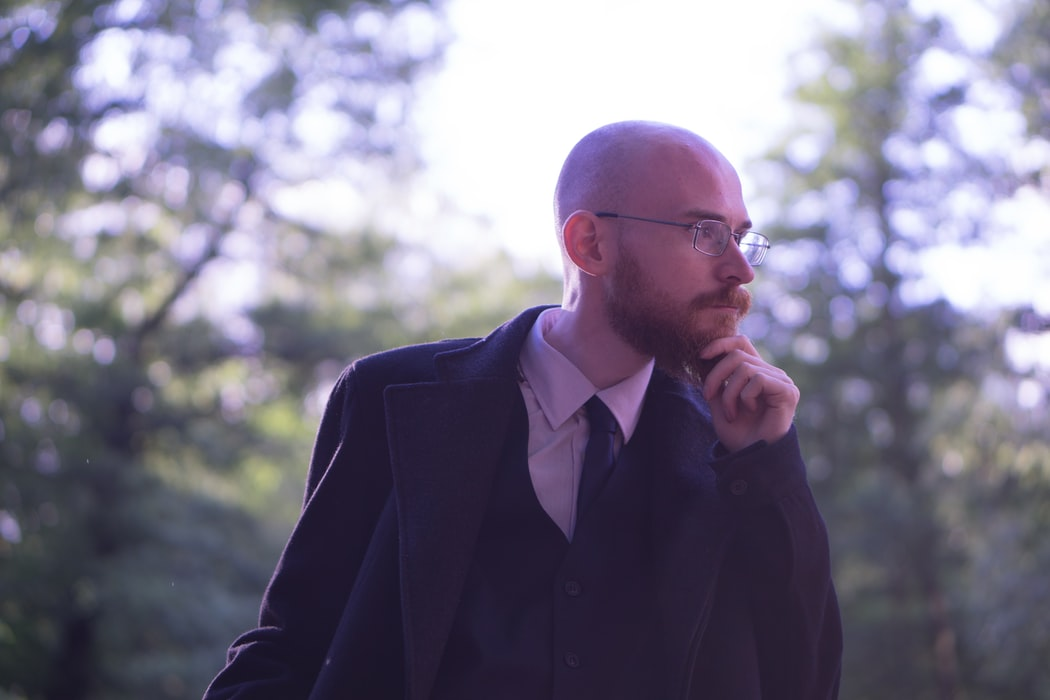beard: (601, 287, 762, 377)
glasses: (646, 212, 776, 275)
